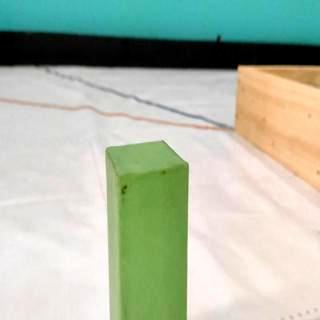greenbox: (106, 139, 191, 320)
